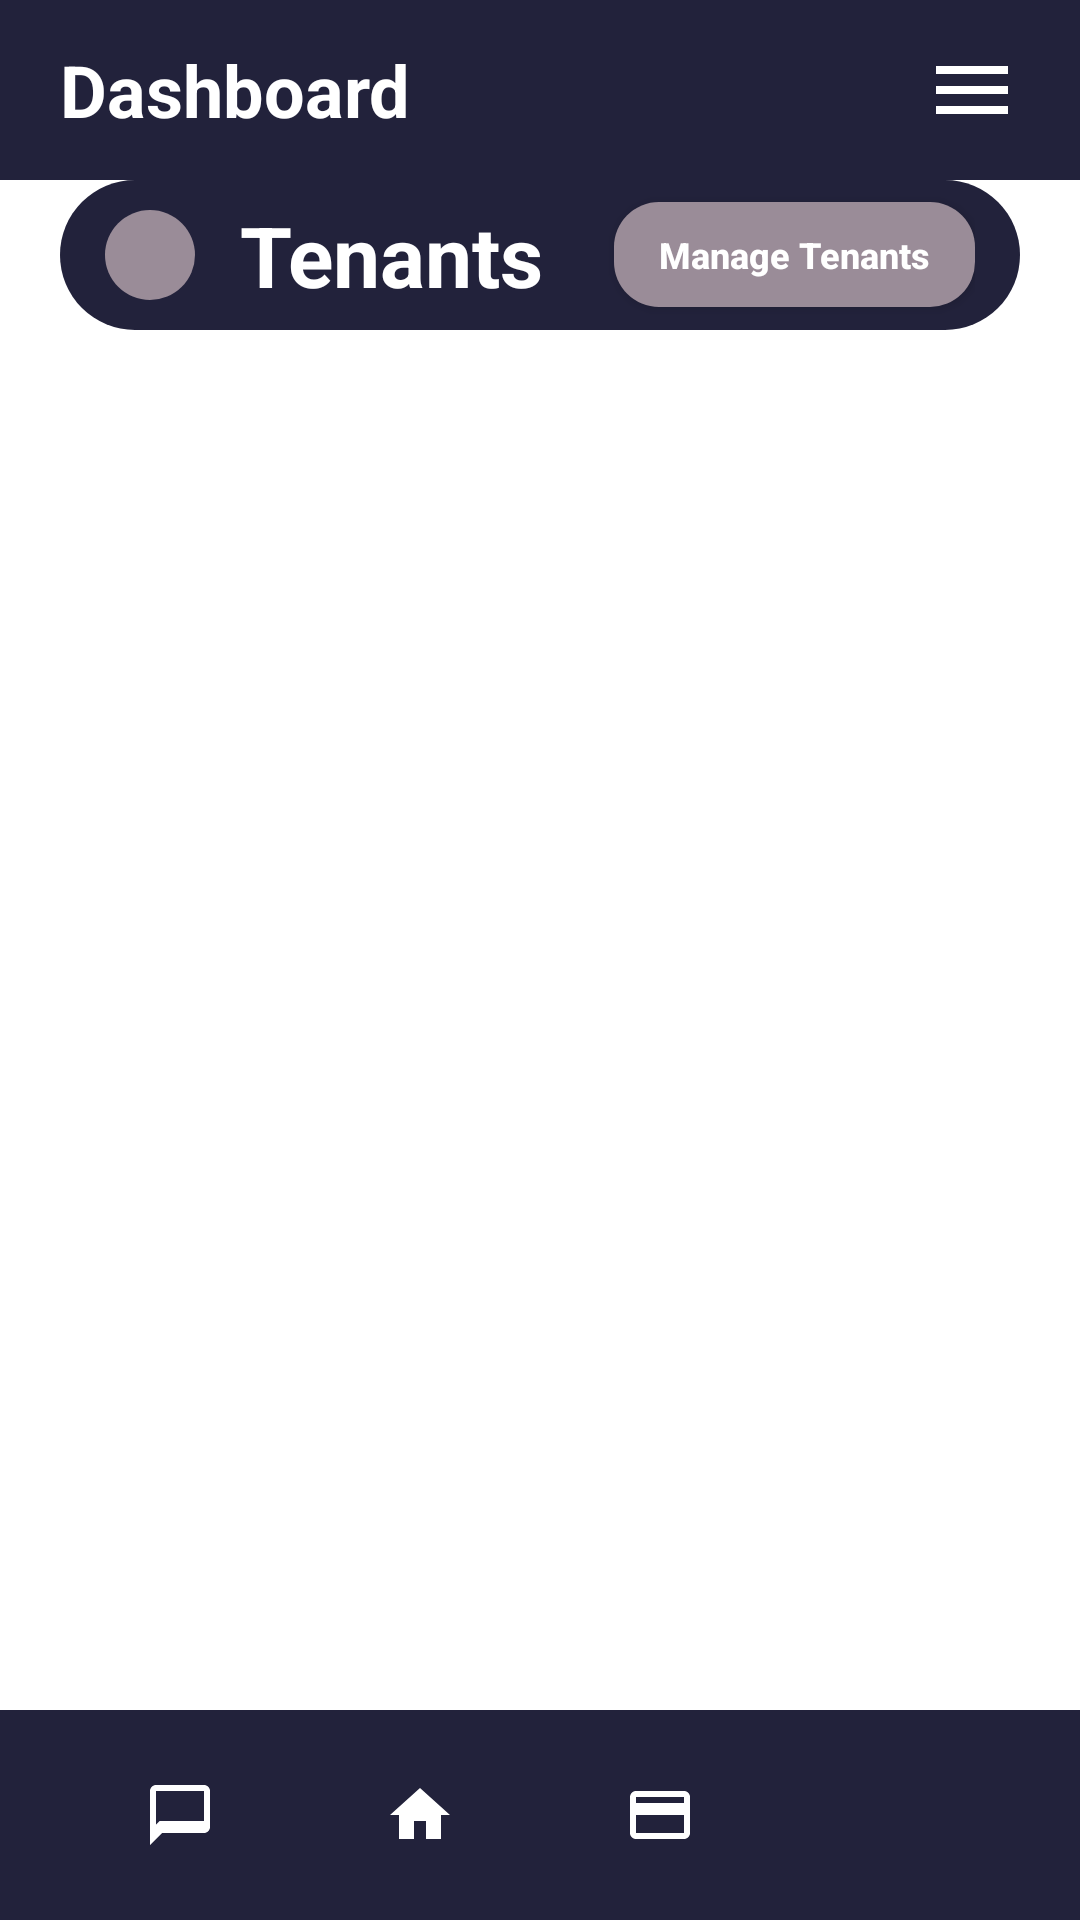

Where to tap for icons on this 1080x1920 app screen, as [x,y]:
Home: [420,1813]
Menu: [972,90]
Messages: [180,1815]
Payments: [660,1815]
